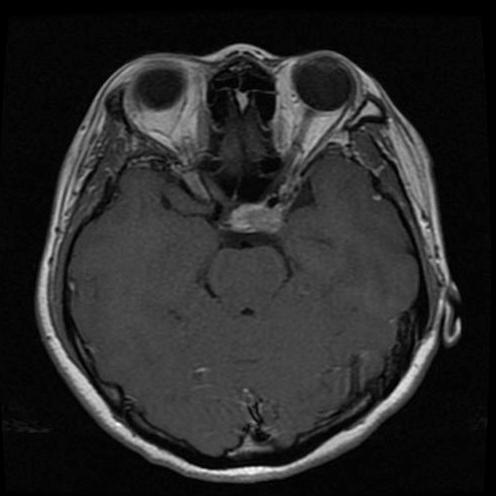Tumour-Pituitary: (217, 203, 287, 236)
